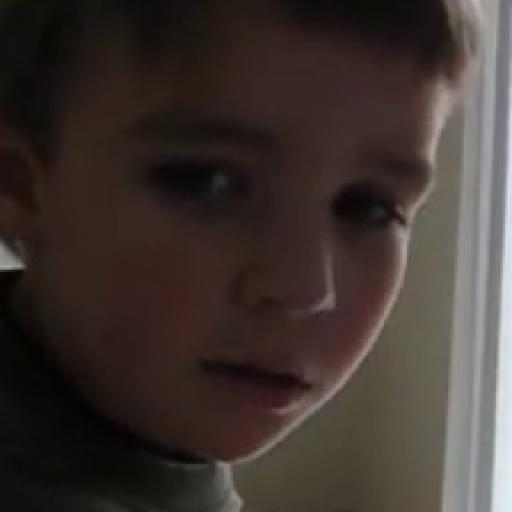Autism: (33, 6, 484, 462)
